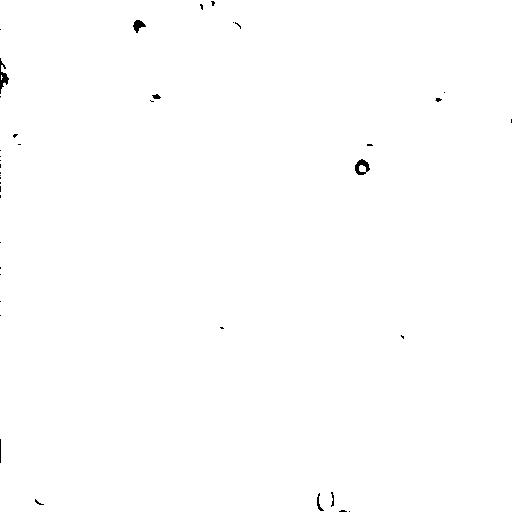micro-algae: (241, 317, 294, 365), (284, 207, 327, 256), (125, 13, 160, 48), (0, 429, 25, 460), (393, 317, 420, 343), (355, 141, 385, 163), (265, 241, 294, 262), (30, 483, 55, 506), (315, 486, 337, 512), (351, 155, 373, 179), (222, 19, 243, 43), (5, 129, 29, 149), (2, 58, 12, 96), (220, 0, 245, 15), (429, 83, 448, 101), (195, 0, 217, 15), (499, 181, 511, 205), (0, 71, 11, 91)
